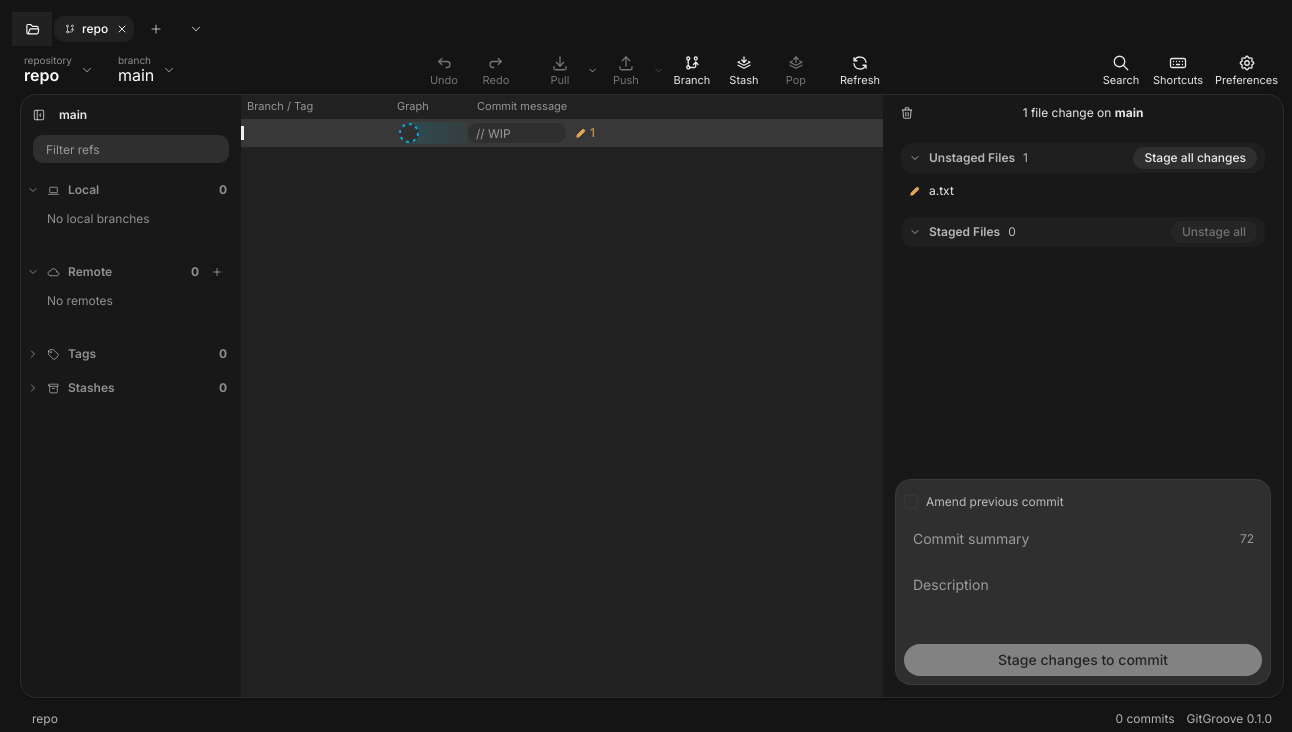
Scenario: App keeps the status bar with the action that still owns it (GC-084) › leaves the bar with a repository open started after it (GC-108)
Click the button titled "Refresh" at (860, 70), box [834,50,886,90]
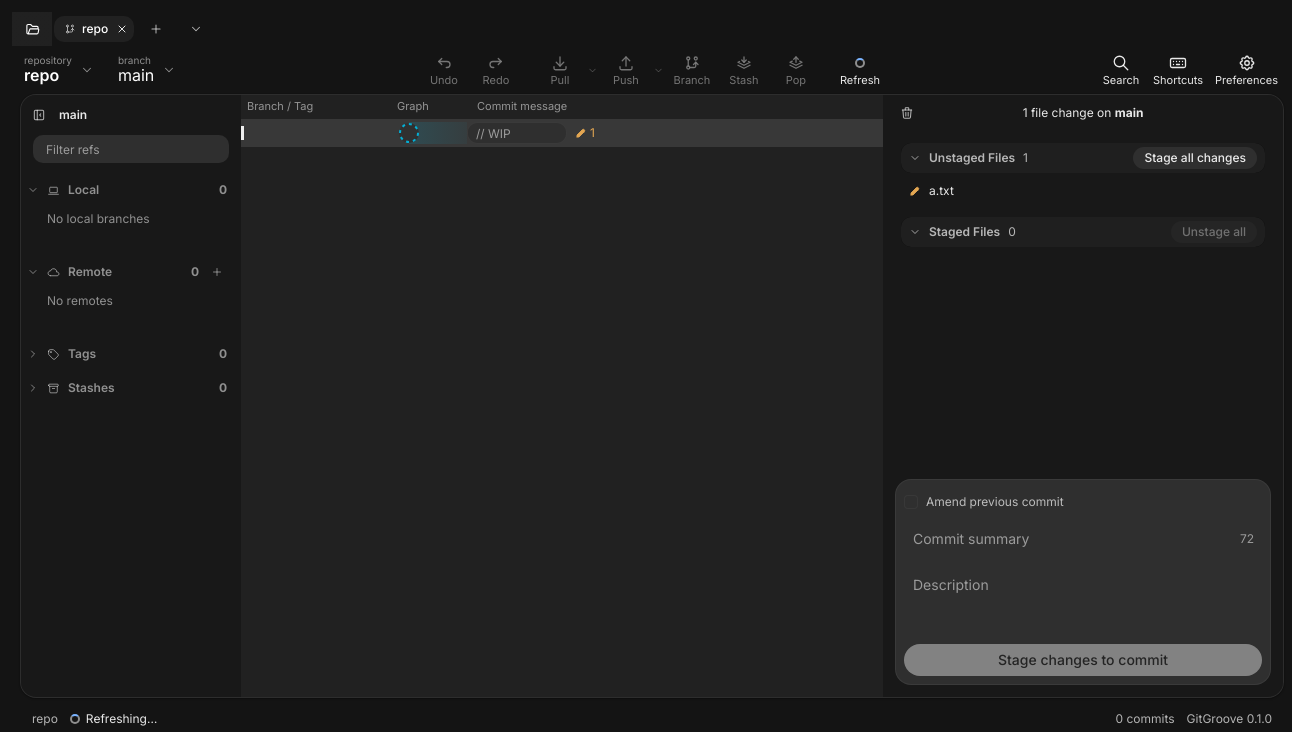
Click the button titled "Open repository" at (32, 29), box [12,12,52,46]
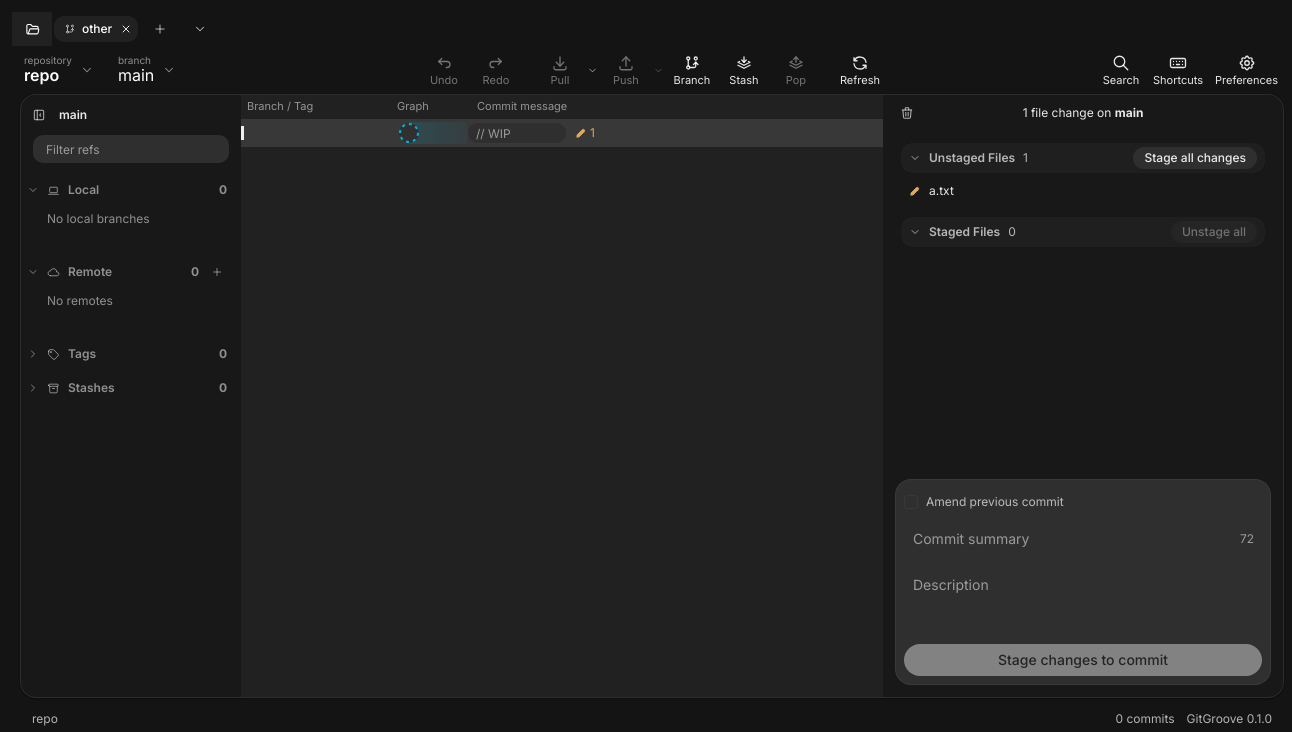
expect the element with class "busy" is gone: met
